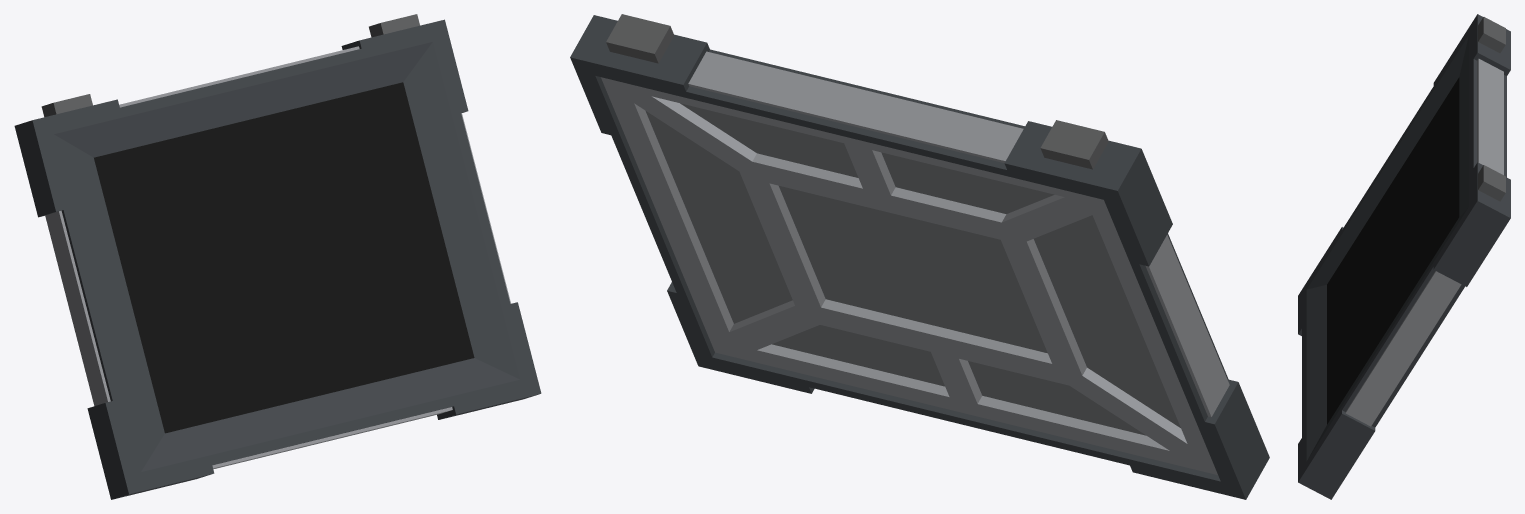
File: SM_Item_Laptop_Lid_01.obj
3 views of the same model, side by side, from view 1: azimuth 30°, elevation 25°; view 2: azimuth 150°, elevation 25°; view 3: azimuth 270°, elevation 25° (orthographic). The views are drawn at different scales.
Visible parts, largest first — view 1: SM_Item_Laptop_Lid_01_0; view 2: SM_Item_Laptop_Lid_01_0; view 3: SM_Item_Laptop_Lid_01_0.
Part boxes in pixels (left/top/right/bottom): SM_Item_Laptop_Lid_01_0: left=14, top=14, right=541, bottom=499; SM_Item_Laptop_Lid_01_0: left=570, top=14, right=1269, bottom=499; SM_Item_Laptop_Lid_01_0: left=1298, top=14, right=1510, bottom=499.
Size of the model in its own units: 0.5311 by 0.4077 by 0.2556.
Materials: 1 (1 with a texture image).
